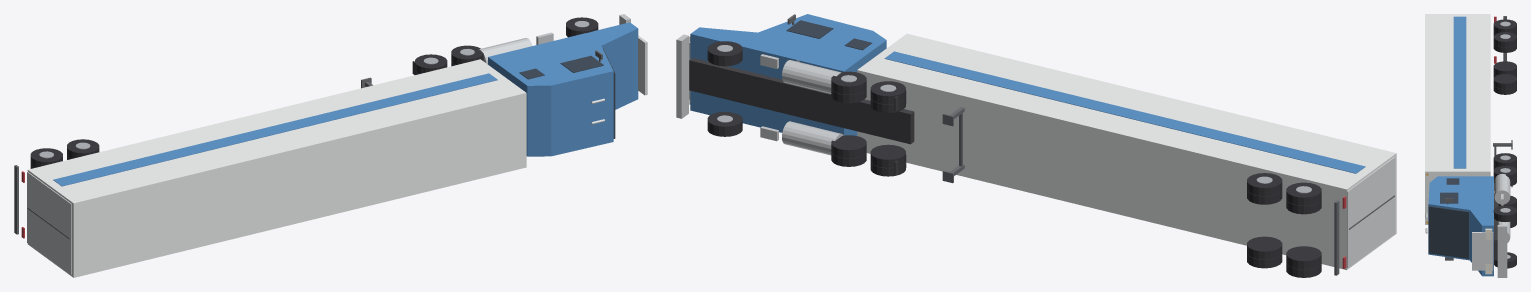
The model's file is test-truck.glb.
3 renders of one model, left to right at view 1: azimuth 30°, elevation 25°; view 2: azimuth 150°, elevation 25°; view 3: azimuth 270°, elevation 25°, orthographic. The views are drawn at different scales.
Visible parts, largest first — view 1: van_body, cab_body, stripe_L, rear_doors, grille, fuel_tank_L, wheel_axle2_L_1, wheel_drive1_L_1, wheel_axle1_L_1, wheel_steer_L_0, wheel_drive2_L_1, side_glass_L; view 2: van_body, cab_body, frame, stripe_L, rear_doors, fuel_tank_R, fuel_tank_L, bumper, wheel_axle1_R_1, wheel_axle2_R_1, wheel_steer_L_0, wheel_steer_R_0 (+8 smaller); view 3: van_body, cab_body, stripe_L, windshield, grille, bumper, fuel_tank_L, wheel_axle1_R_1, wheel_steer_L_0, wheel_axle2_R_1, wheel_axle1_L_1, wheel_axle2_L_1 (+13 smaller).
Part boxes in pixels (x1,y1,x2,y2): van_body: [27, 59, 526, 277]; cab_body: [488, 22, 638, 156]; stripe_L: [53, 73, 497, 186]; rear_doors: [27, 172, 71, 274]; grille: [638, 35, 647, 95]; fuel_tank_L: [478, 38, 532, 64]; wheel_axle2_L_1: [30, 148, 62, 167]; wheel_drive1_L_1: [415, 54, 447, 73]; wheel_axle1_L_1: [67, 139, 99, 158]; wheel_steer_L_0: [566, 17, 598, 37]; wheel_drive2_L_1: [451, 45, 483, 64]; side_glass_L: [560, 56, 603, 72]; van_body: [857, 33, 1396, 269]; cab_body: [690, 14, 886, 135]; frame: [689, 58, 914, 144]; stripe_L: [884, 51, 1365, 173]; rear_doors: [1347, 156, 1395, 267]; fuel_tank_R: [782, 121, 843, 155]; fuel_tank_L: [782, 60, 841, 93]; bumper: [676, 34, 688, 118]; wheel_axle1_R_1: [1247, 236, 1282, 259]; wheel_axle2_R_1: [1286, 246, 1321, 269]; wheel_steer_L_0: [707, 41, 742, 66]; wheel_steer_R_0: [707, 111, 742, 136]; van_body: [1425, 14, 1490, 224]; cab_body: [1428, 176, 1493, 276]; stripe_L: [1453, 16, 1466, 168]; windshield: [1428, 206, 1469, 258]; grille: [1472, 232, 1493, 270]; bumper: [1497, 225, 1507, 277]; fuel_tank_L: [1494, 174, 1510, 204]; wheel_axle1_R_1: [1493, 74, 1516, 89]; wheel_steer_L_0: [1493, 205, 1516, 222]; wheel_axle2_R_1: [1493, 61, 1516, 75]; wheel_axle1_L_1: [1493, 32, 1516, 47]; wheel_axle2_L_1: [1493, 19, 1516, 33].
Bounding box in the file's own units: 21.83 × 2.96 × 3.99.
